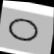no answer: (5, 15, 43, 47)
